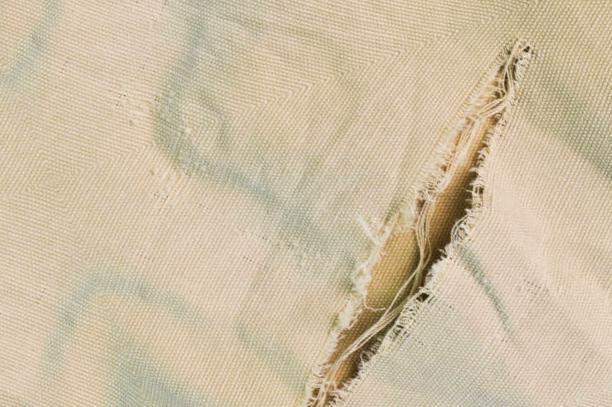hole: (298, 30, 553, 406)
